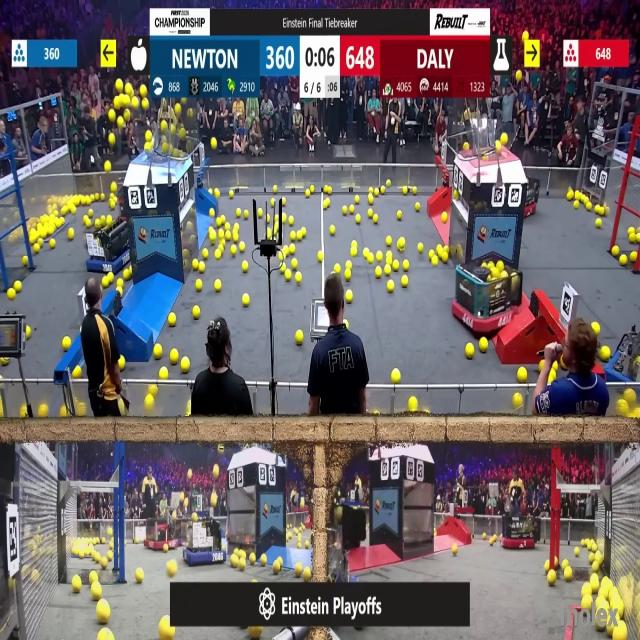ball_airborne: (120, 96, 130, 108), (125, 85, 134, 97), (213, 466, 220, 481), (132, 98, 140, 110), (115, 78, 123, 90), (210, 494, 218, 506), (140, 86, 148, 98), (145, 131, 152, 143), (108, 134, 115, 146), (500, 134, 507, 146), (108, 110, 116, 120), (114, 96, 120, 109), (105, 162, 112, 173), (141, 99, 148, 110), (123, 109, 129, 121), (211, 138, 217, 150), (163, 143, 170, 153), (116, 116, 123, 126), (162, 119, 168, 129), (176, 104, 182, 114), (180, 129, 186, 139), (517, 71, 523, 81), (187, 108, 193, 118), (110, 182, 116, 192), (168, 144, 174, 154), (180, 493, 185, 504), (144, 142, 150, 151), (463, 143, 469, 151), (496, 141, 501, 150), (171, 126, 176, 135), (187, 469, 192, 478)
ball_ground: (98, 602, 110, 626), (161, 618, 174, 640), (92, 584, 102, 601), (249, 626, 261, 640), (168, 561, 178, 576), (590, 579, 600, 594), (72, 578, 81, 594), (514, 393, 524, 407), (581, 594, 591, 608), (392, 369, 401, 384), (409, 396, 418, 411), (601, 347, 610, 362), (38, 406, 48, 419), (117, 402, 125, 418), (518, 367, 527, 381), (465, 345, 474, 359), (180, 357, 189, 371), (626, 387, 635, 401), (97, 629, 108, 640), (145, 395, 153, 410), (154, 345, 162, 359), (63, 338, 71, 352), (136, 568, 144, 582), (546, 571, 554, 585), (274, 559, 282, 573), (148, 384, 157, 396), (76, 406, 85, 418), (171, 350, 179, 363), (564, 568, 572, 581), (295, 332, 302, 346), (481, 339, 488, 353), (169, 313, 176, 327), (73, 365, 81, 377), (161, 366, 169, 378), (191, 307, 199, 319), (294, 563, 301, 576), (91, 571, 100, 581), (346, 290, 354, 301), (376, 251, 384, 262), (284, 271, 292, 282), (18, 410, 26, 421), (243, 293, 250, 305), (387, 280, 394, 292), (118, 356, 124, 370), (214, 280, 221, 292), (8, 288, 15, 300), (397, 238, 404, 250), (239, 559, 246, 571), (304, 568, 311, 580), (386, 251, 393, 263), (384, 267, 392, 277), (630, 252, 638, 262), (68, 230, 75, 241), (376, 268, 383, 279), (621, 254, 628, 265), (259, 555, 266, 566), (232, 556, 239, 567), (61, 408, 68, 419), (594, 322, 600, 334), (0, 357, 8, 366), (628, 235, 636, 244), (611, 246, 618, 256), (13, 282, 20, 292), (210, 232, 217, 242), (566, 189, 573, 199), (218, 230, 225, 240), (101, 558, 108, 568), (592, 562, 599, 572), (94, 554, 101, 564), (195, 280, 201, 291), (401, 277, 407, 288), (294, 273, 300, 284), (346, 270, 352, 281), (123, 271, 129, 282), (23, 255, 29, 266), (240, 242, 246, 253), (191, 261, 197, 272), (232, 245, 238, 256), (317, 251, 323, 262), (250, 554, 256, 565), (594, 206, 602, 214), (446, 245, 454, 253), (562, 559, 569, 568), (402, 262, 408, 272), (243, 263, 249, 273), (203, 249, 209, 259), (443, 212, 449, 222), (328, 224, 334, 234), (289, 244, 295, 254), (393, 262, 399, 272), (336, 265, 342, 275), (27, 326, 32, 338), (363, 248, 369, 258), (418, 243, 424, 253), (291, 258, 297, 268), (596, 218, 602, 228), (102, 278, 108, 288), (587, 202, 593, 212), (214, 250, 220, 260), (543, 560, 549, 570), (233, 233, 239, 243), (396, 210, 402, 220), (436, 242, 442, 252), (547, 373, 553, 383), (110, 200, 116, 210), (589, 554, 595, 564), (574, 190, 580, 200), (349, 206, 356, 214), (116, 279, 123, 287), (628, 226, 636, 233), (49, 240, 55, 249), (386, 237, 392, 246), (431, 256, 437, 265), (34, 244, 40, 253), (343, 206, 349, 215), (354, 194, 360, 203), (371, 214, 377, 223), (428, 249, 434, 258), (268, 231, 274, 240), (83, 216, 89, 225), (182, 249, 188, 258), (324, 185, 330, 194), (303, 229, 309, 238), (539, 360, 544, 370), (453, 543, 458, 553), (444, 252, 449, 262), (324, 200, 329, 210), (200, 264, 205, 274), (257, 208, 262, 218), (108, 274, 113, 284), (367, 193, 372, 203), (574, 548, 579, 558), (288, 216, 294, 224), (244, 210, 250, 218), (278, 252, 284, 260), (573, 202, 579, 210), (402, 186, 408, 194), (295, 233, 301, 241), (351, 240, 357, 248), (281, 266, 287, 274), (214, 189, 220, 197), (60, 217, 66, 225), (108, 552, 113, 561), (225, 232, 230, 241), (108, 527, 113, 536), (100, 192, 106, 199), (227, 190, 233, 197), (271, 201, 277, 208), (218, 239, 224, 246), (351, 248, 356, 256), (347, 262, 352, 270), (290, 233, 295, 241), (237, 209, 242, 217), (210, 208, 215, 216), (165, 544, 170, 552), (554, 558, 559, 566), (490, 536, 495, 544), (275, 214, 280, 222), (216, 216, 220, 226), (635, 234, 639, 244), (71, 207, 76, 215), (381, 187, 386, 195), (268, 214, 273, 222), (413, 186, 418, 194), (356, 214, 360, 223), (306, 190, 311, 197), (235, 223, 240, 230), (224, 223, 229, 230), (376, 188, 381, 195), (386, 180, 391, 187), (416, 204, 420, 212), (554, 361, 558, 369), (367, 209, 371, 217), (282, 199, 286, 207), (90, 209, 94, 217), (483, 532, 487, 540), (252, 578, 257, 584), (135, 537, 140, 543), (282, 215, 286, 222), (274, 185, 278, 192), (306, 540, 310, 547), (346, 321, 350, 328), (367, 185, 371, 192), (296, 542, 300, 547)
goal: (467, 124, 519, 160)
robot_blue: (85, 218, 133, 276), (183, 515, 228, 566), (608, 331, 640, 389)
robot_red: (455, 252, 521, 337), (147, 515, 183, 550), (503, 514, 540, 548)
